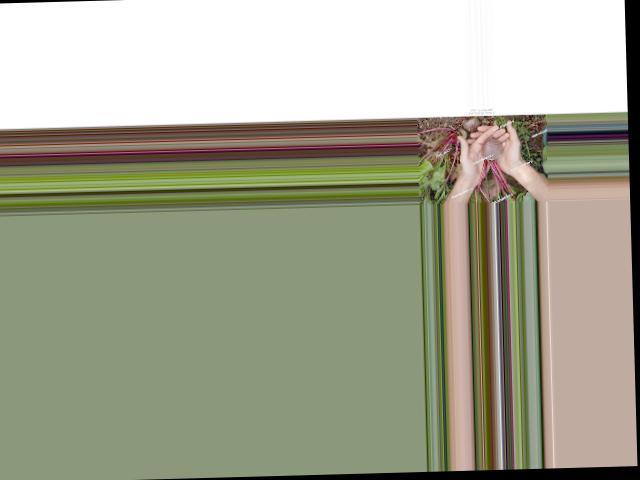beet: (475, 135, 516, 201)
